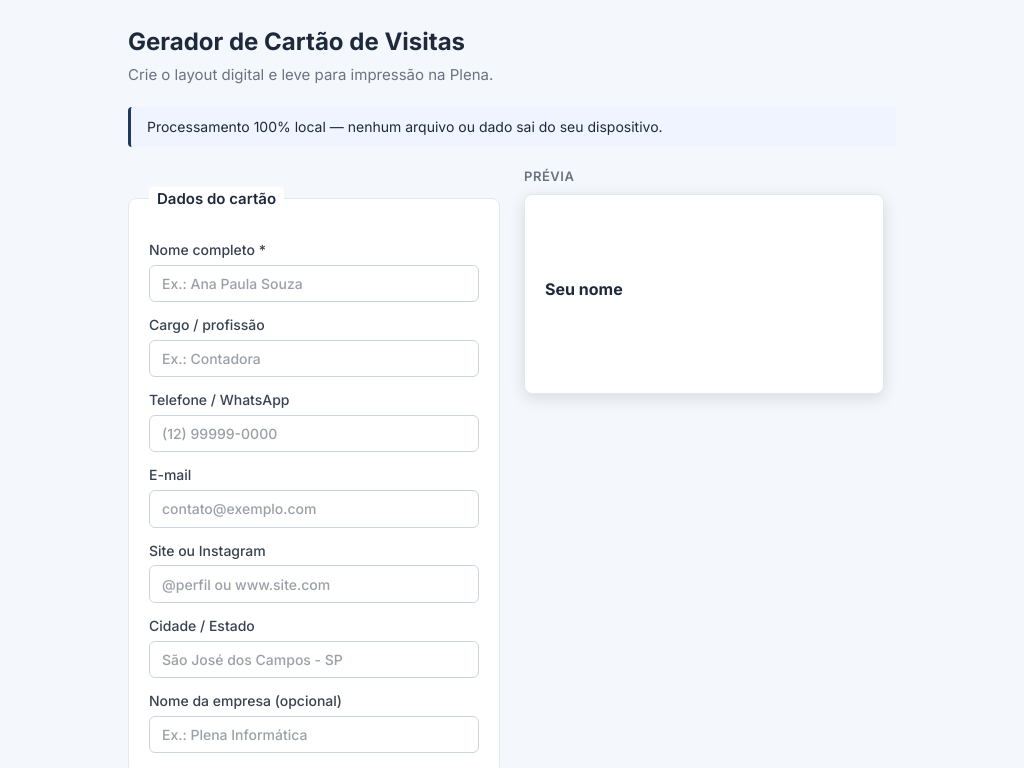
Test: BusinessCardCreatorTool — regressão › preencher nome exibe o nome na prévia
Step 1. Type "Maria Silva" into the field labelled "Nome completo *" → (314, 283), box top-left (149, 265), bottom-right (479, 302)
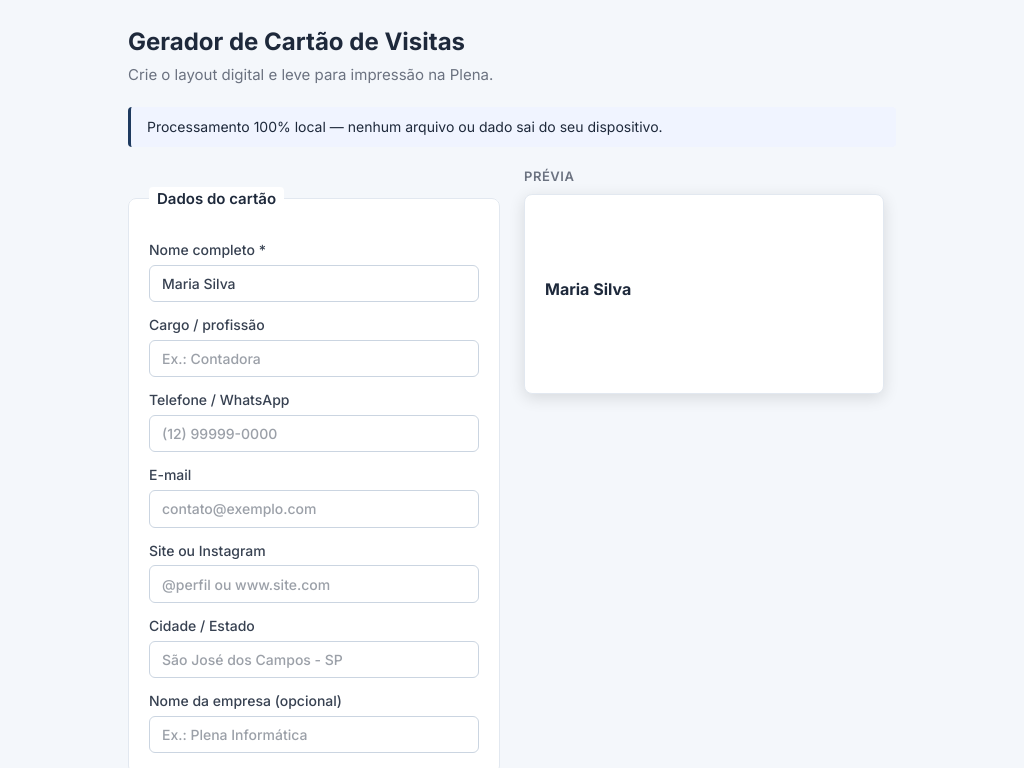
Expected: the text "Maria Silva" is shown, top-left (545, 279), bottom-right (631, 299)
